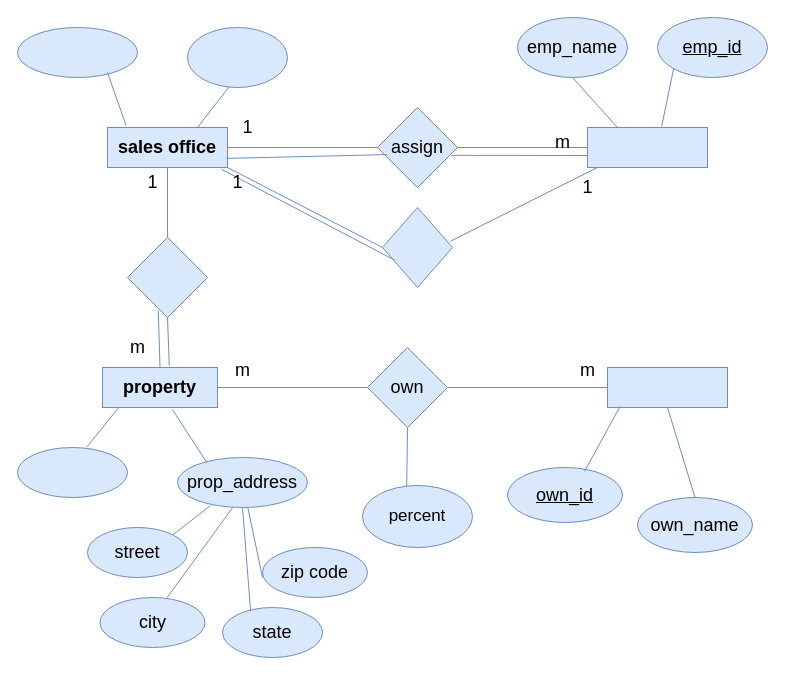
Some shapes in this 785 by 675 pixel diagram are drawn without their labels. The centre of each missing label's shape, as x and y in pixels:
"employee" belongs at point 647,147.
"listed" belongs at point 167,277.
"location" belongs at point 237,57.
"manage" belongs at point 417,247.
"office_number" belongs at point 77,52.
"owners" belongs at point 667,387.
"prop_id" belongs at point 72,472.
